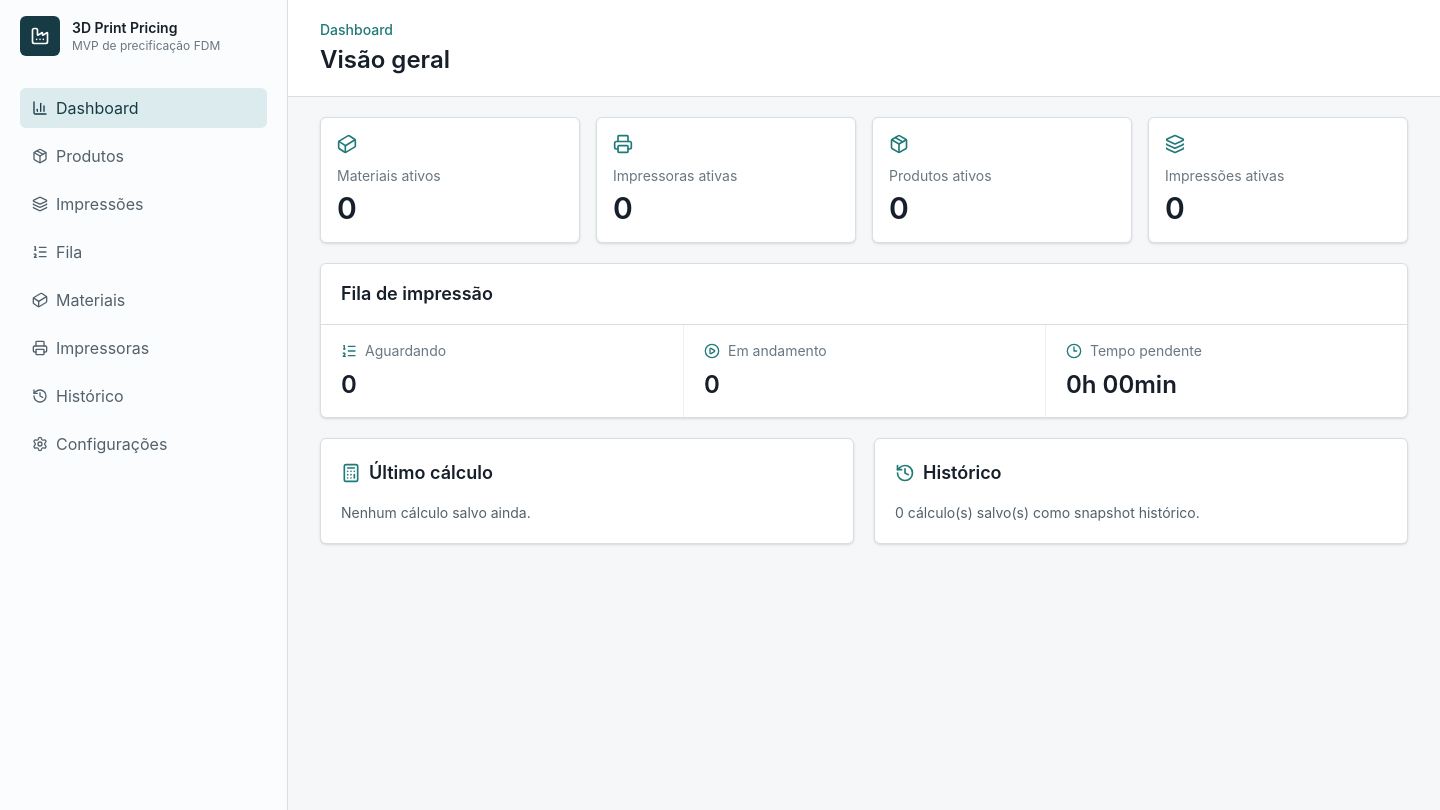
Test: App › opens materials and printers from navigation
The image size is (1440, 810).
What coordinates should you click on to do the following:
click the button "Materiais"
I would click on:
 (144, 300)
Its box is x1=20 y1=280 x2=267 y2=320.
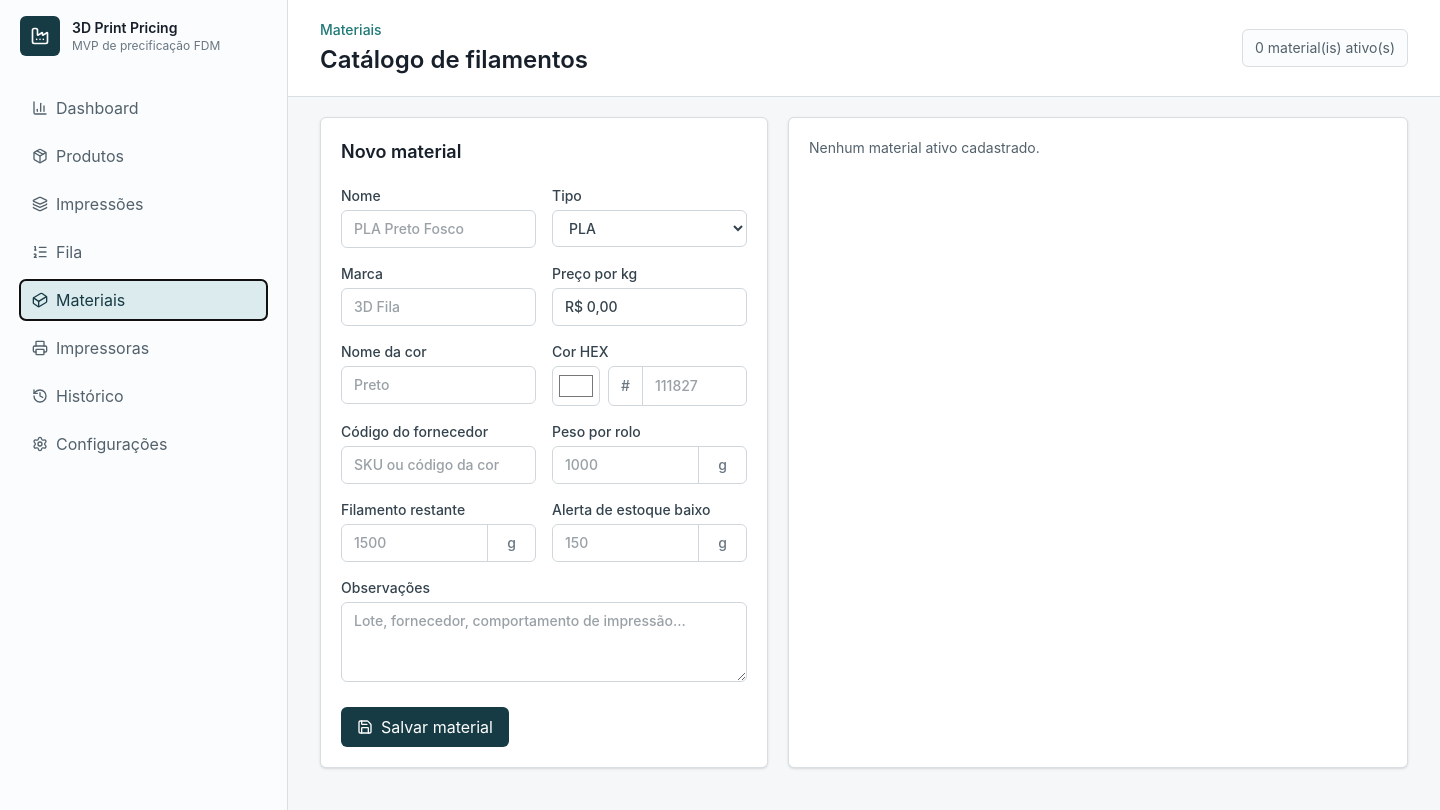
expect the heading "Catálogo de filamentos" is shown: met, box x1=320 y1=44 x2=588 y2=76
expect the text "Nenhum material ativo cadastrado." is shown: met, box x1=788 y1=117 x2=1408 y2=768
What coordinates should you click on to do the following:
click the button "Impressoras"
I would click on:
 (144, 348)
Its box is x1=20 y1=328 x2=267 y2=368.
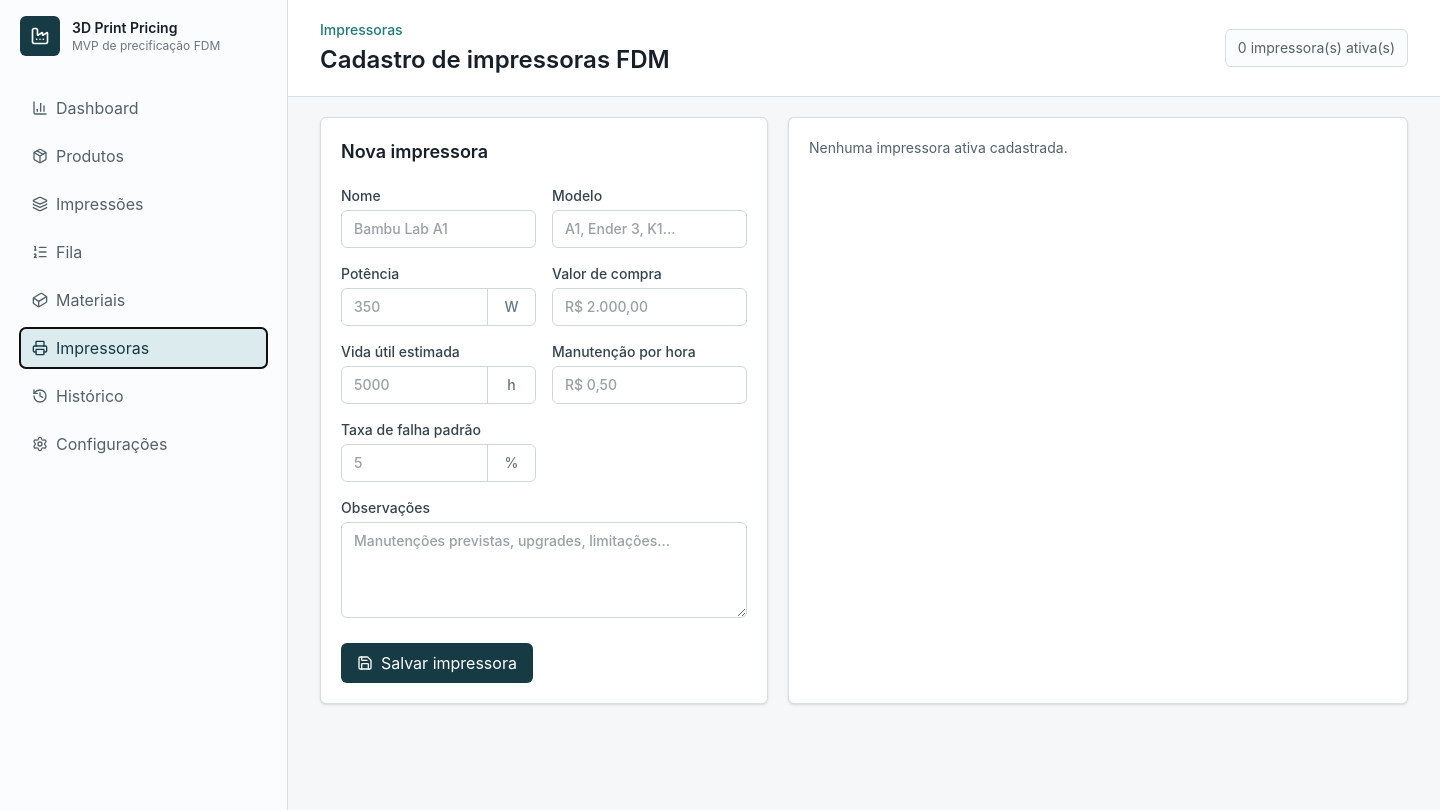
expect the heading "Cadastro de impressoras FDM" is shown: met, box x1=320 y1=44 x2=670 y2=76
expect the text "Nenhuma impressora ativa cadastrada." is shown: met, box x1=788 y1=117 x2=1408 y2=704
